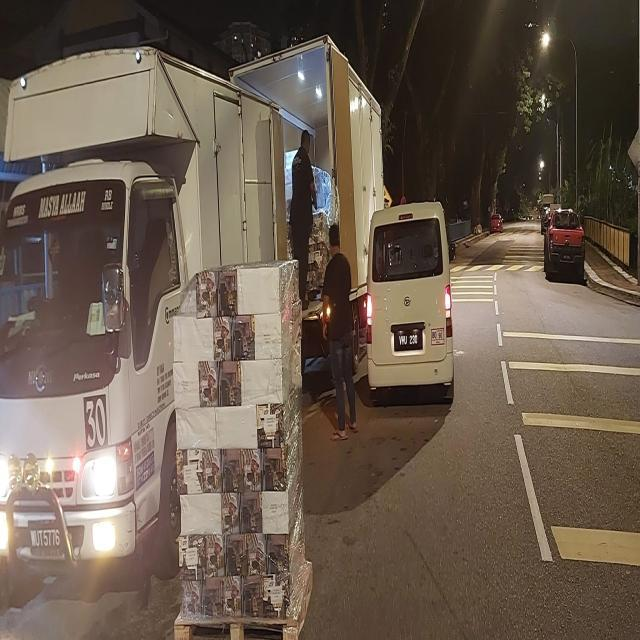truck: (0, 44, 174, 580)
